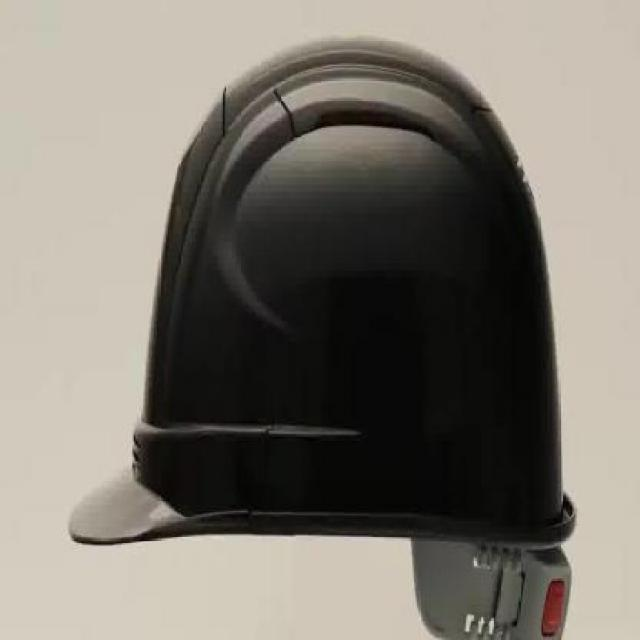Helmet: (67, 26, 578, 640)
